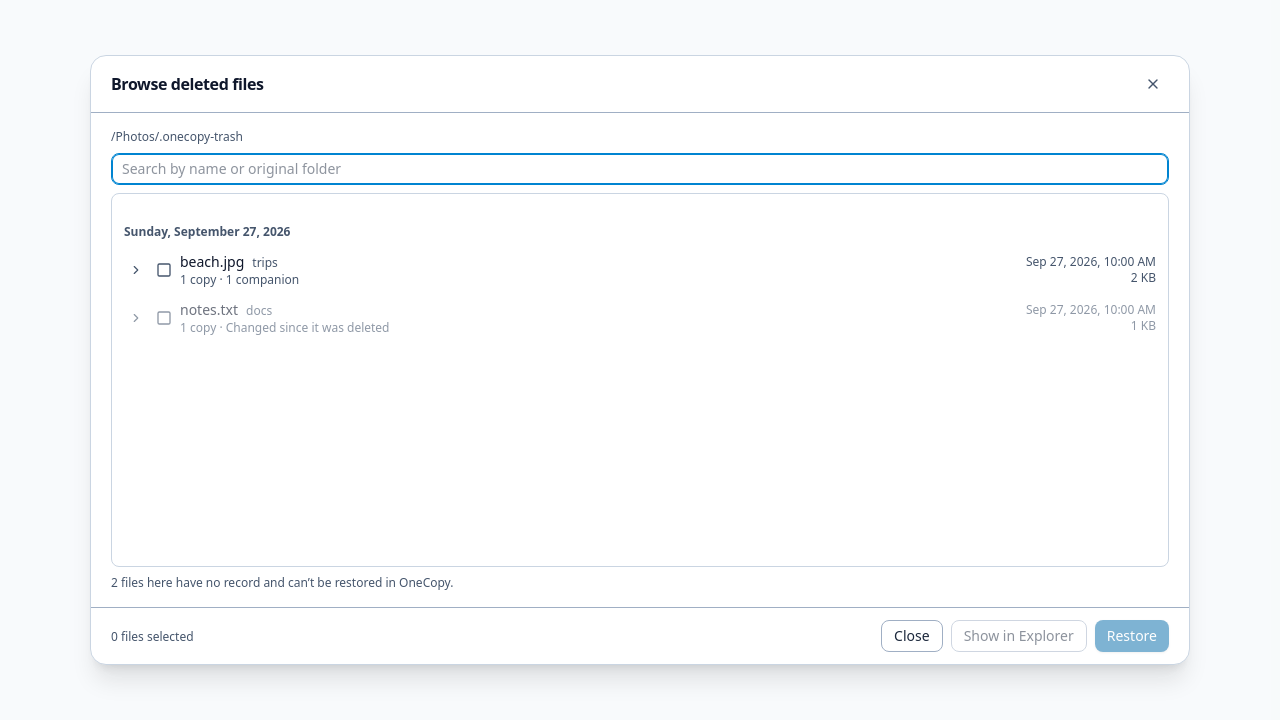
Test: Deleted files browse › searches by name or original folder
This screenshot has width=1280, height=720.
Type "DOCS" into the search field with placeholder "Search by name or original folder" at [640, 169], box [111, 153, 1169, 185]
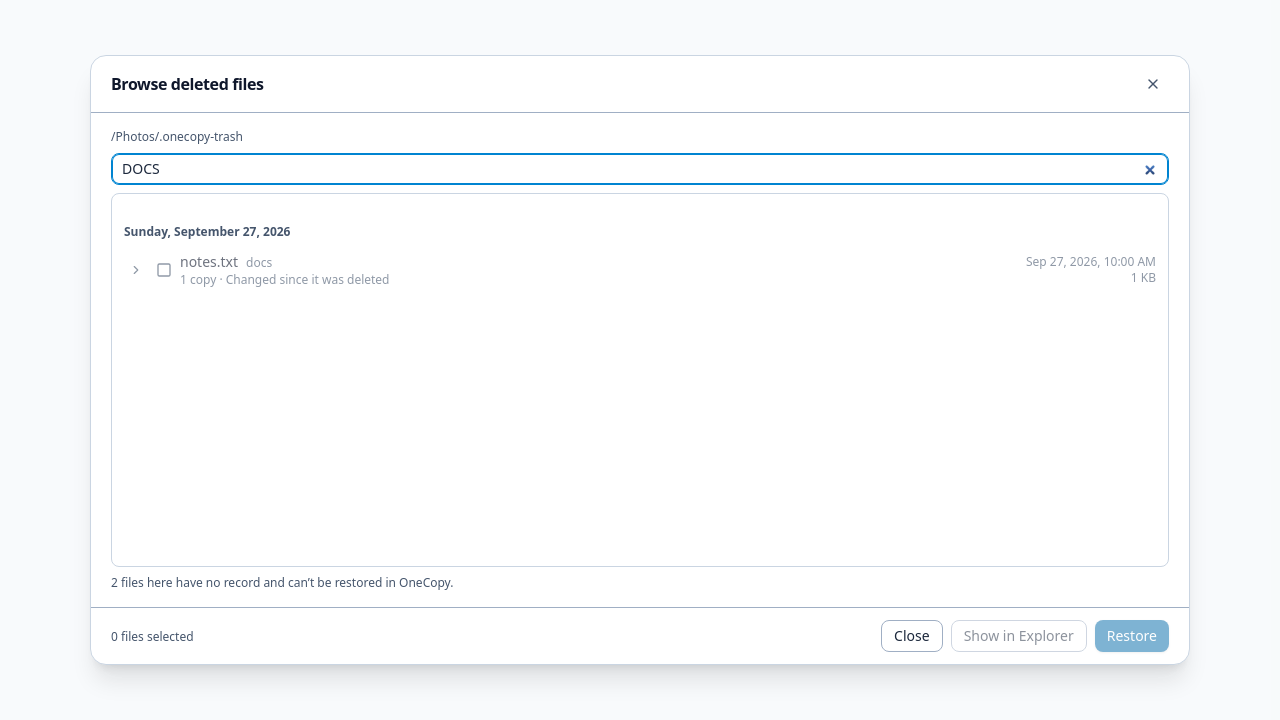
Expected: the number of options is 1, [116, 246, 1164, 294]
Replace the text in the search field named "Search deleted files" with "nothing" at [640, 169], box [111, 153, 1169, 185]
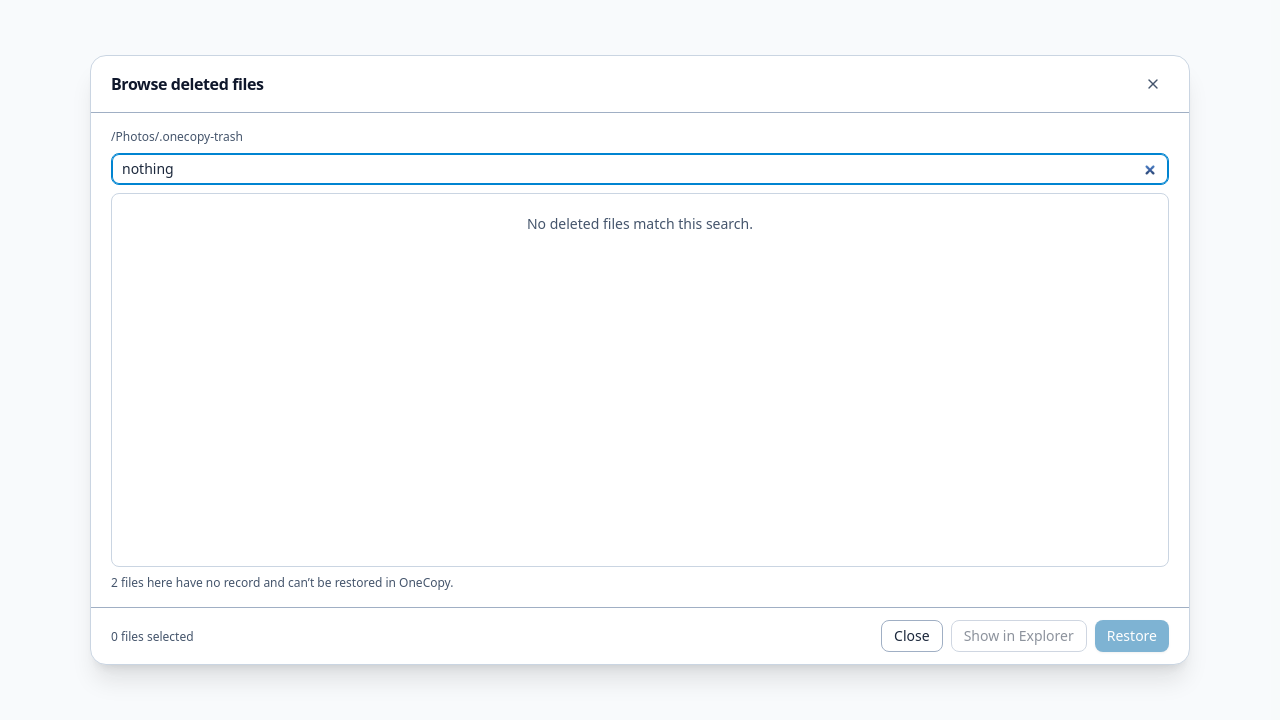
Now the text "No deleted files match this search." is shown, box [527, 214, 753, 233]
